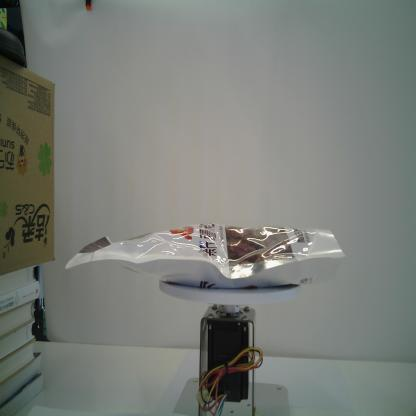Dried Food: (64, 222, 346, 290)
